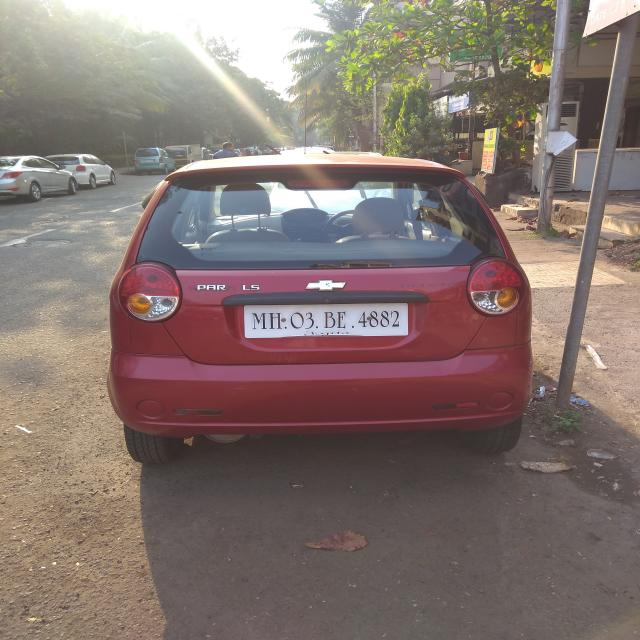Number-Plate: (244, 304, 406, 336)
